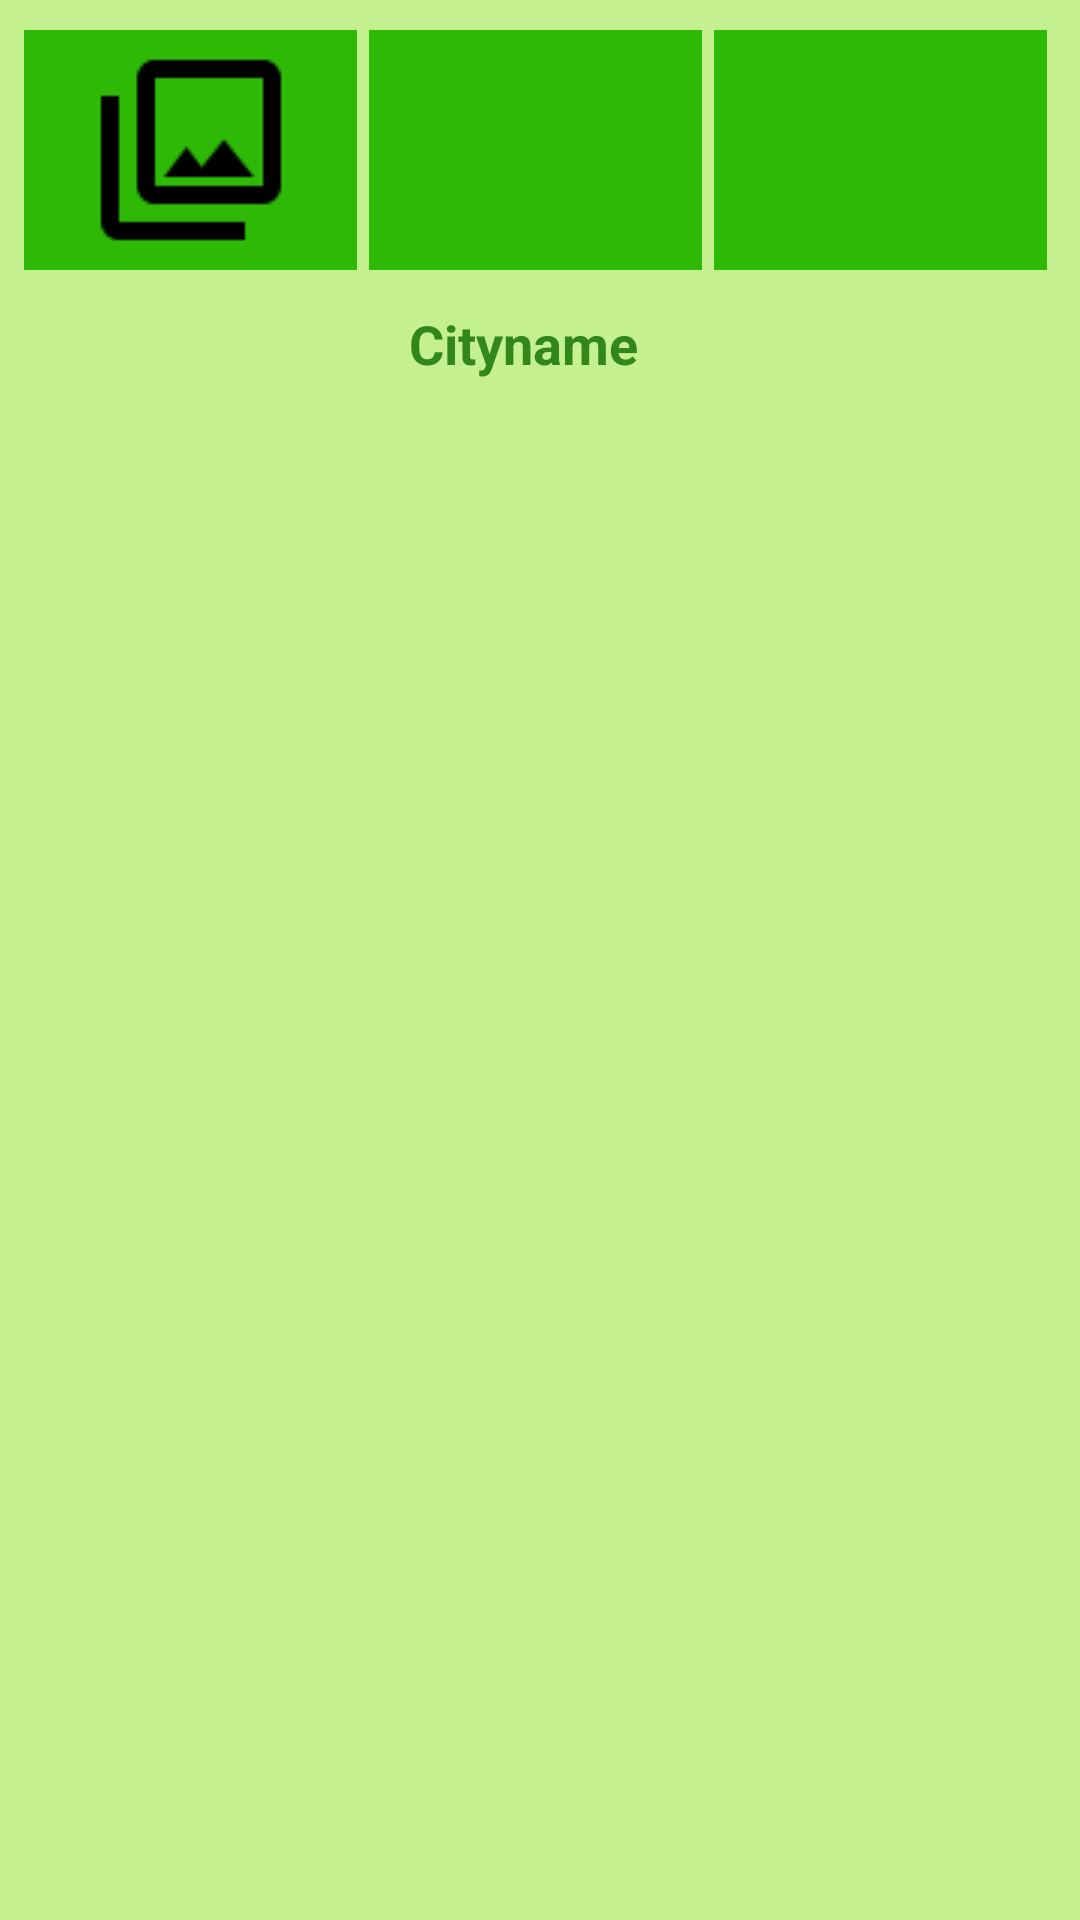

Icon click points for this 1080 x 1920 phone screenshot, format (x,y):
photo library: (190,150)
